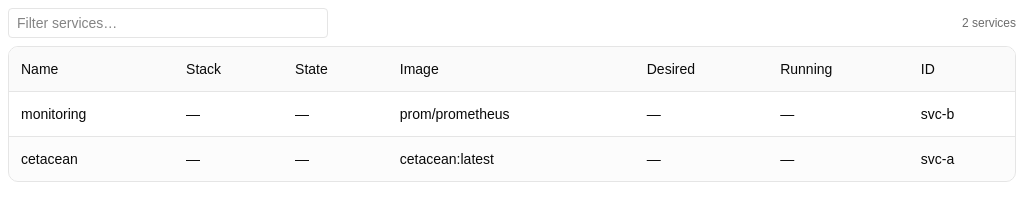
ResourceTable › matches on any column, not just the name
Type "prom/" into the search field. click: coordinates (168, 23)
box: [8,8,328,38]
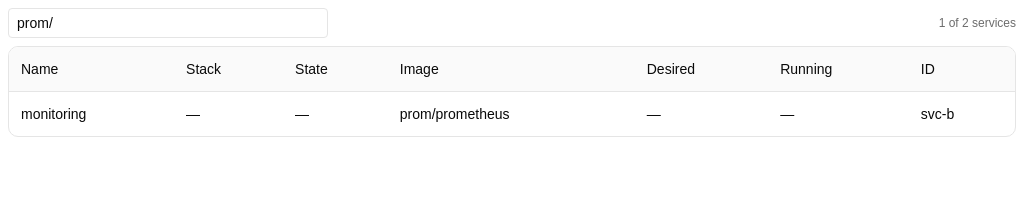
Expected: the text "monitoring" is shown, [9,92,174,136]
Now the text "cetacean" is gone
